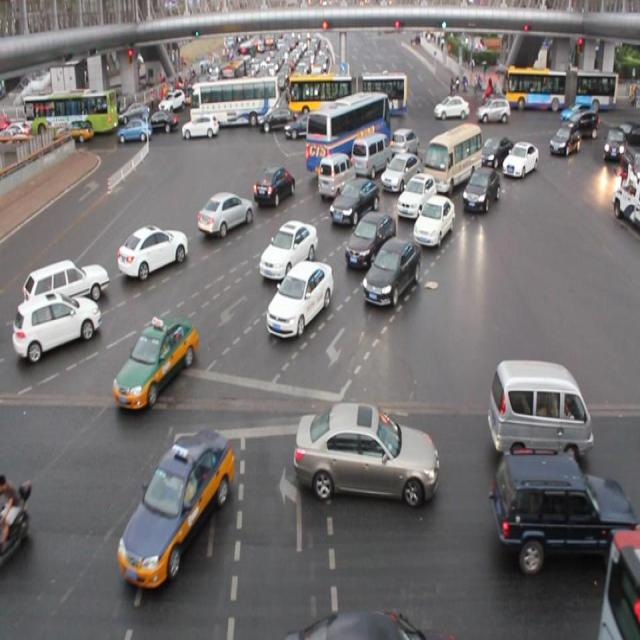car: (116, 426, 236, 586), (489, 451, 631, 566), (294, 401, 440, 506), (112, 314, 199, 413), (16, 289, 103, 362), (23, 256, 109, 320), (265, 262, 334, 340), (360, 232, 421, 310), (117, 222, 188, 278), (259, 220, 317, 285), (343, 210, 395, 272), (197, 188, 253, 237), (412, 192, 455, 252), (326, 178, 378, 224), (390, 173, 433, 224), (460, 166, 499, 212), (254, 165, 297, 205), (380, 150, 421, 188), (502, 140, 536, 178), (549, 123, 579, 158), (390, 126, 419, 161), (480, 134, 510, 167)
truck: (488, 356, 593, 464), (421, 125, 478, 190), (351, 132, 393, 178), (316, 154, 355, 198)
van: (306, 91, 392, 177), (594, 522, 640, 640)
